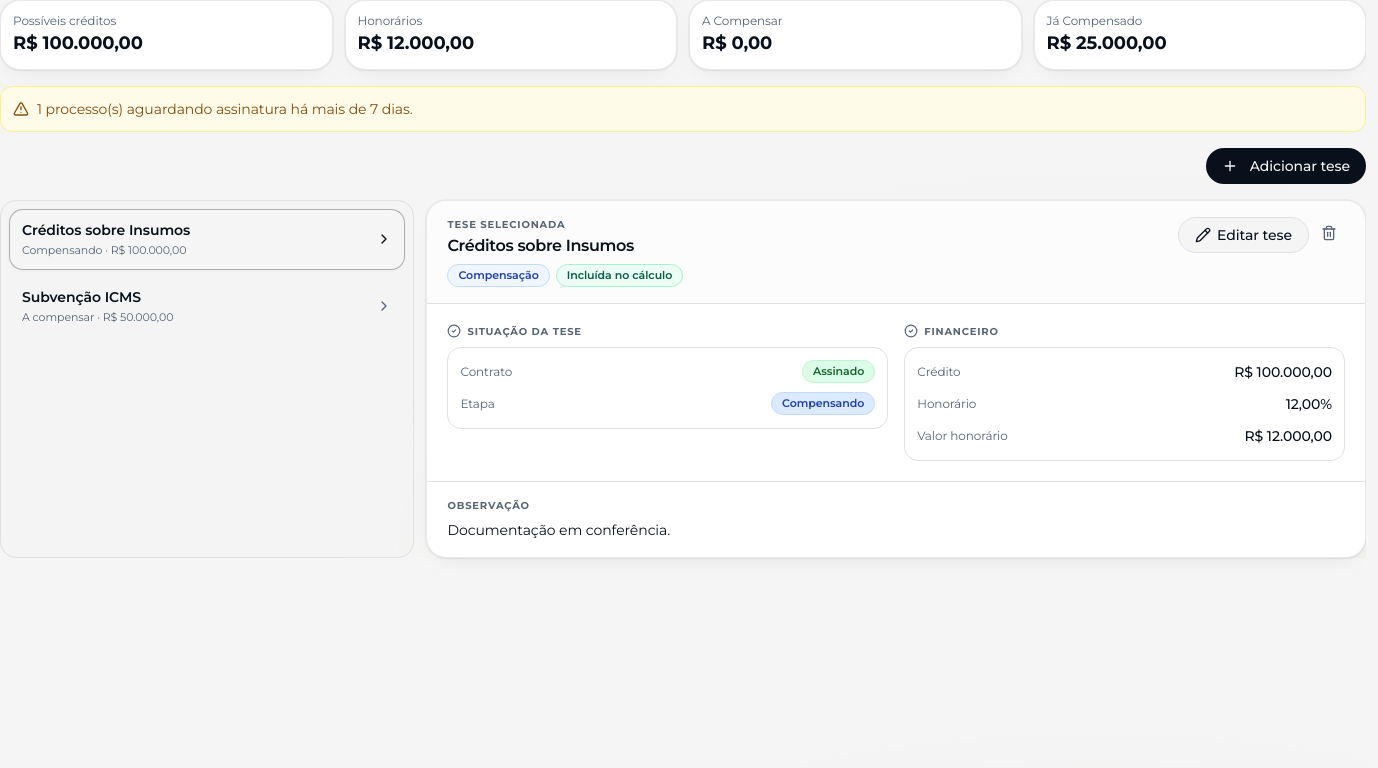
Test: ProcessosTesesTab organizado por tese › ao clicar em outra tese, mostra os dados dela no card
The image size is (1378, 768).
Click the tab "Subvenção ICMS A compensar · R$ 50.000,00" at x=82, y=296, box [9,276,406,336]
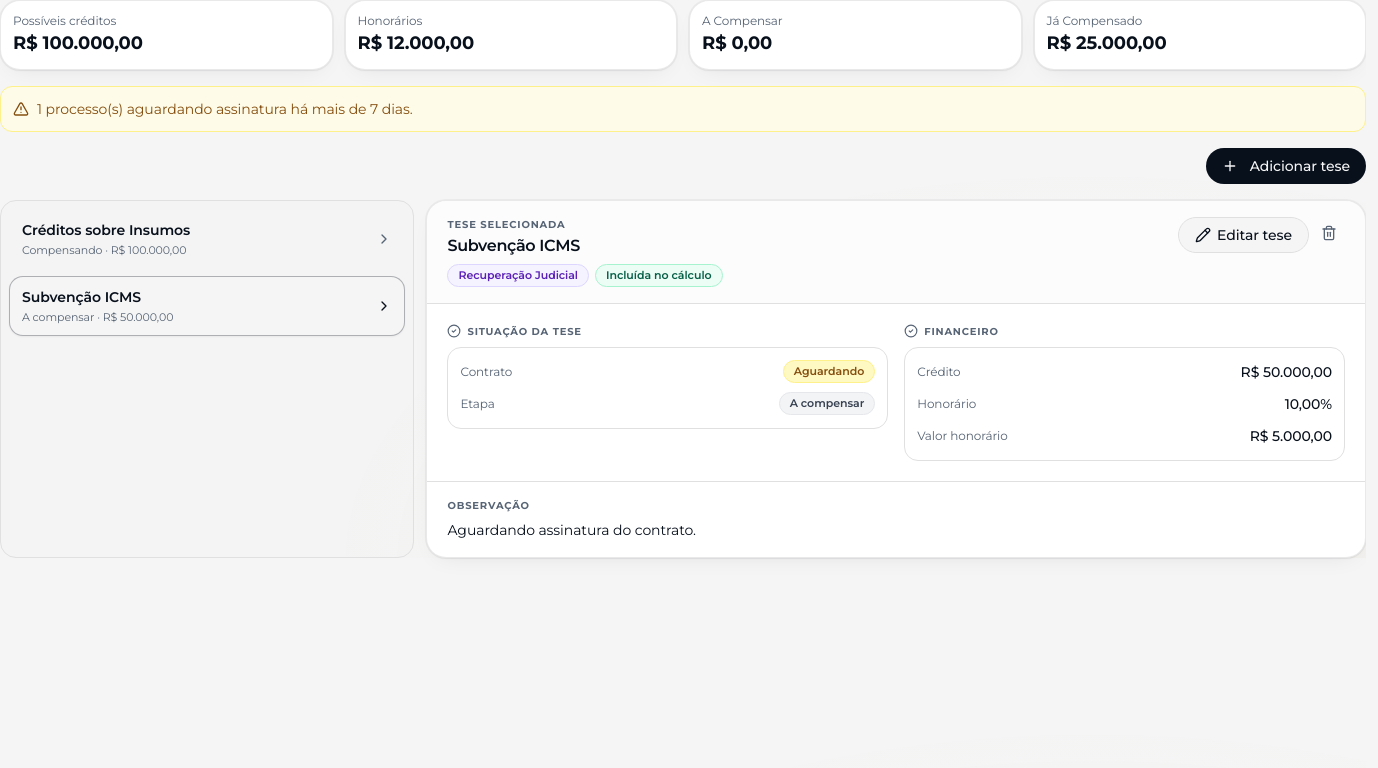
Expected: the heading "Subvenção ICMS" is shown, [448,236,580,255]
Expected: the text "Recuperação Judicial" is shown, [448,264,589,286]
Expected: the text "Aguardando" is shown, [783,360,875,383]
